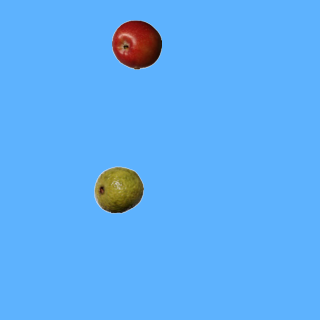Apple Braeburn: (111, 19, 161, 69)
Guava: (93, 164, 143, 214)
